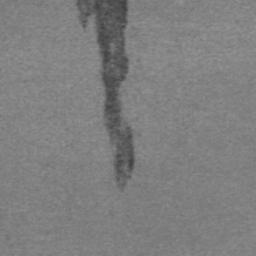Iron scale compression: (76, 0, 135, 193)
